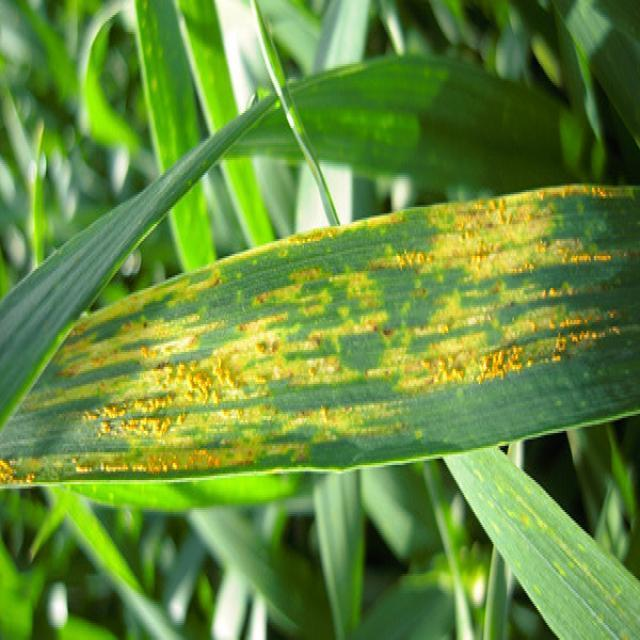Yellow Rust: (0, 182, 639, 483)
